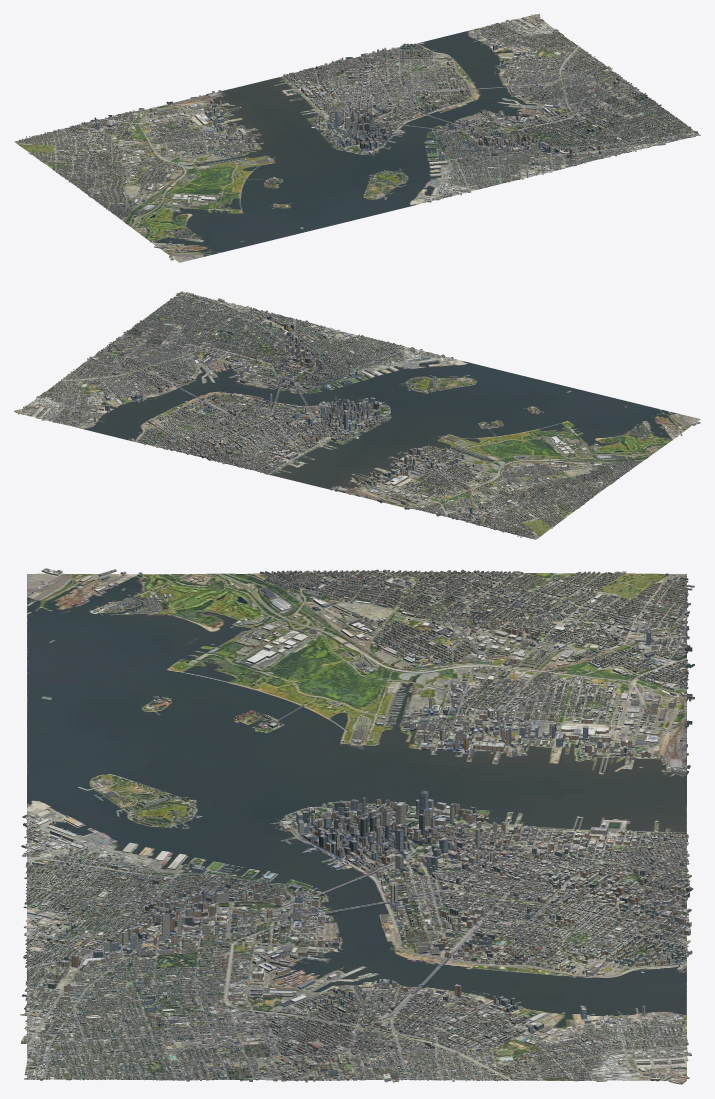
Rendered from downtown.glb.
3 views of the same model, one above another, from view 1: azimuth 30°, elevation 25°; view 2: azimuth 150°, elevation 25°; view 3: azimuth 270°, elevation 25° (orthographic). The views are drawn at different scales.
Visible parts, largest first — view 1: Map_Map1_0, Building1_Wall1_0, Building5_Wall5_0, Building6_Wall6_0, Building2_Wall2_0, Building4_Wall4_0, Building3_Wall3_0; view 2: Map_Map1_0, Building1_Wall1_0, Building6_Wall6_0, Building5_Wall5_0, Building2_Wall2_0, Building4_Wall4_0, Building3_Wall3_0; view 3: Map_Map1_0, Building1_Wall1_0, Building5_Wall5_0, Building6_Wall6_0, Building2_Wall2_0, Building4_Wall4_0, Building3_Wall3_0.
Boxes of the visible parts, x1,y1,x2,y2 form: Map_Map1_0: [14, 14, 700, 262]; Building1_Wall1_0: [19, 17, 700, 250]; Building5_Wall5_0: [26, 16, 697, 246]; Building6_Wall6_0: [18, 19, 696, 260]; Building2_Wall2_0: [25, 14, 696, 257]; Building4_Wall4_0: [19, 19, 696, 257]; Building3_Wall3_0: [25, 19, 698, 239]; Map_Map1_0: [14, 291, 700, 539]; Building1_Wall1_0: [27, 293, 682, 537]; Building6_Wall6_0: [26, 295, 700, 537]; Building5_Wall5_0: [18, 292, 667, 537]; Building2_Wall2_0: [14, 292, 682, 535]; Building4_Wall4_0: [23, 293, 680, 538]; Building3_Wall3_0: [26, 292, 655, 536]; Map_Map1_0: [20, 568, 694, 1083]; Building1_Wall1_0: [21, 570, 691, 1082]; Building5_Wall5_0: [21, 570, 694, 1081]; Building6_Wall6_0: [25, 570, 692, 1082]; Building2_Wall2_0: [22, 570, 694, 1084]; Building4_Wall4_0: [23, 570, 694, 1081]; Building3_Wall3_0: [20, 570, 693, 1081].
Size of the model in its own units: 15523 by 503 by 8601.
Materials: 7 (7 with a texture image).
